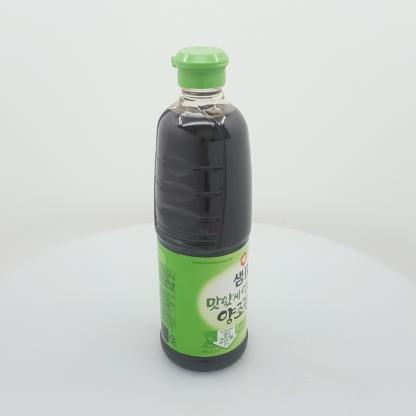-------------: (152, 47, 253, 372)
